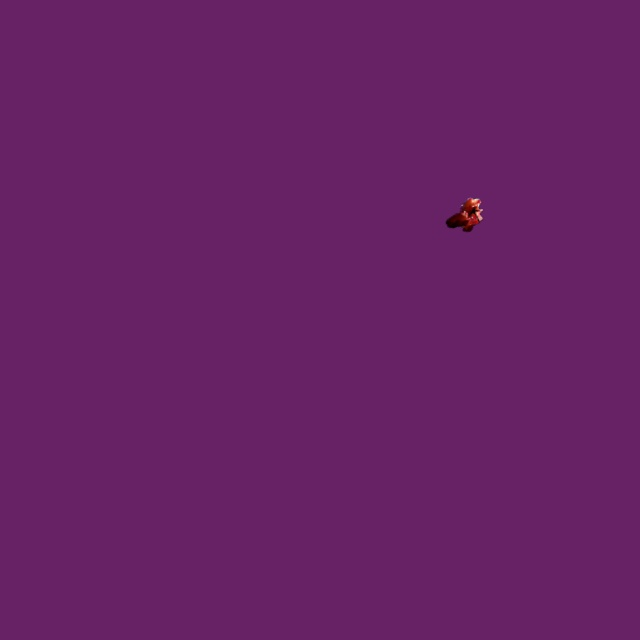rose: (446, 198, 482, 231)
